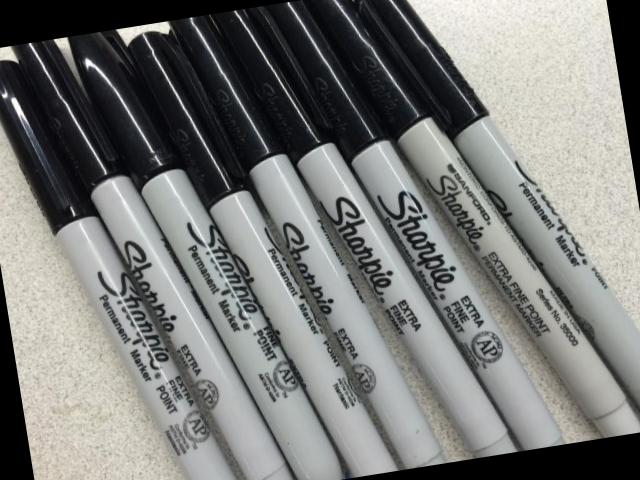PEN: (61, 17, 336, 480), (121, 21, 397, 480)
